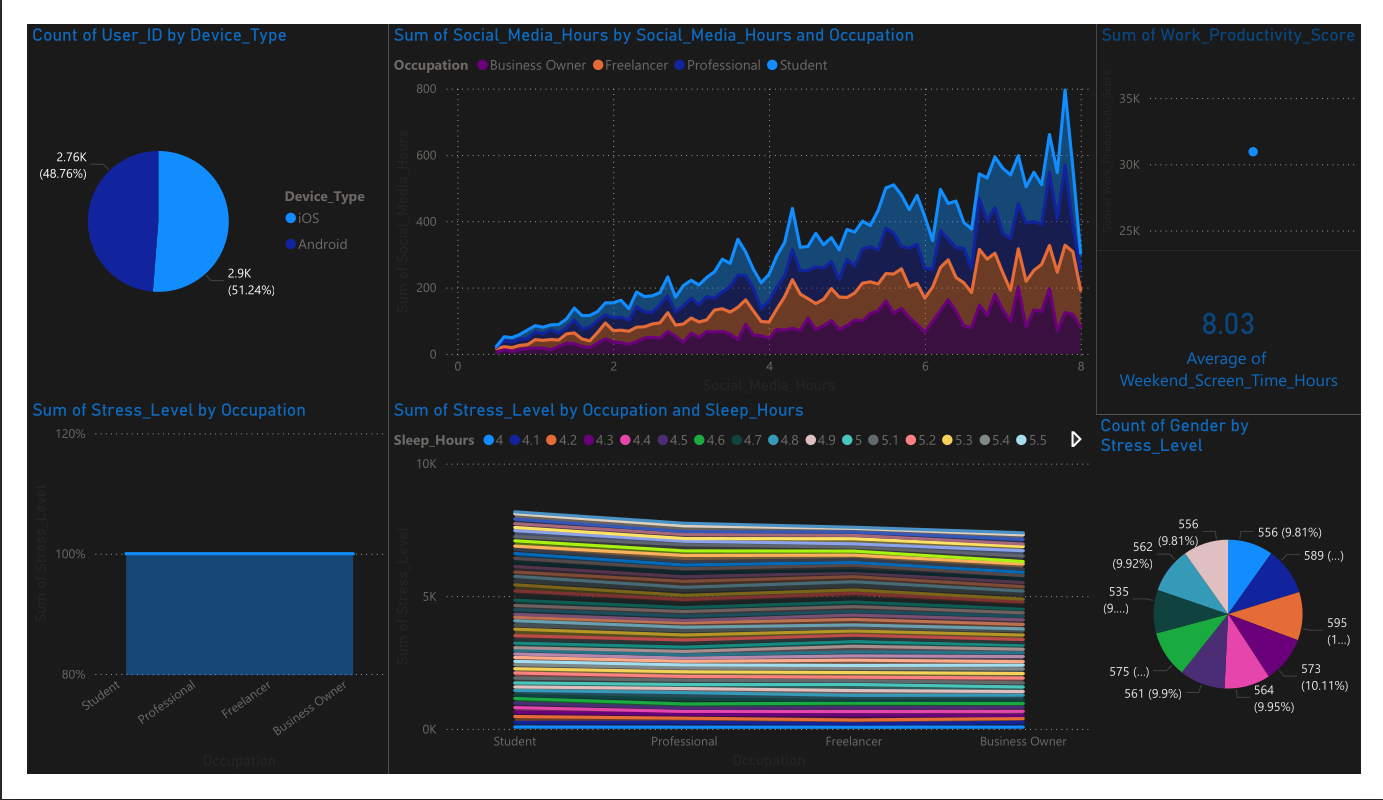

This screenshot's page, from the dashboard's own definition file:
{"tool":"powerbi","page":{"name":"Page 1","canvas":[1280,720],"ordinal":0},"visuals":[{"type":"pieChart","fields":{"Category":["Sheet1 (2).Device_Type"],"Y":["CountNonNull(Sheet1 (2).User_ID)"]},"box":[0,0,347,359.8],"z":0},{"type":"stackedAreaChart","fields":{"Category":["Sheet1 (2).Social_Media_Hours"],"Y":["Sum(Sheet1 (2).Social_Media_Hours)"],"Series":["Sheet1 (2).Occupation"]},"box":[347,0,678.6,359.8],"z":1000},{"type":"hundredPercentStackedAreaChart","fields":{"Category":["Sheet1 (2).Occupation"],"Y":["Sum(Sheet1 (2).Stress_Level)"]},"box":[0,359.8,347,359.8],"z":2000},{"type":"stackedAreaChart","fields":{"Category":["Sheet1 (2).Occupation"],"Series":["Sheet1 (2).Sleep_Hours"],"Y":["Sum(Sheet1 (2).Stress_Level)"]},"box":[347,359.8,678.6,359.8],"z":3000},{"type":"pieChart","fields":{"Series":["Sheet1 (2).Stress_Level"],"Y":["CountNonNull(Sheet1 (2).Gender)"]},"box":[1025,374.6,255.2,345.8],"z":4000},{"type":"areaChart","fields":{"Y":["Sum(Sheet1 (2).Work_Productivity_Score)"]},"box":[1025.5,0,254.5,217.2],"z":5000},{"type":"card","fields":{"Values":["Avg(Sheet1 (2).Weekend_Screen_Time_Hours)"]},"box":[1025.5,217.2,254.5,158.1],"z":6000}]}

Visuals, with their boxes in screenshot pixels (x1, y1, x2, y2), scaled from the page's 1280x720 canvas onto the 1383x800 screenshot:
pieChart - Sheet1 (2).Device_Type x CountNonNull(Sheet1 (2).User_ID): BBox(0, 0, 375, 400)
stackedAreaChart - Sheet1 (2).Social_Media_Hours x Sum(Sheet1 (2).Social_Media_Hours): BBox(375, 0, 1108, 400)
hundredPercentStackedAreaChart - Sheet1 (2).Occupation x Sum(Sheet1 (2).Stress_Level): BBox(0, 400, 375, 799)
stackedAreaChart - Sheet1 (2).Occupation x Sheet1 (2).Sleep_Hours: BBox(375, 400, 1108, 799)
pieChart - Sheet1 (2).Stress_Level x CountNonNull(Sheet1 (2).Gender): BBox(1107, 416, 1382, 799)
areaChart - Sum(Sheet1 (2).Work_Productivity_Score): BBox(1108, 0, 1382, 241)
card - Avg(Sheet1 (2).Weekend_Screen_Time_Hours): BBox(1108, 241, 1382, 417)
